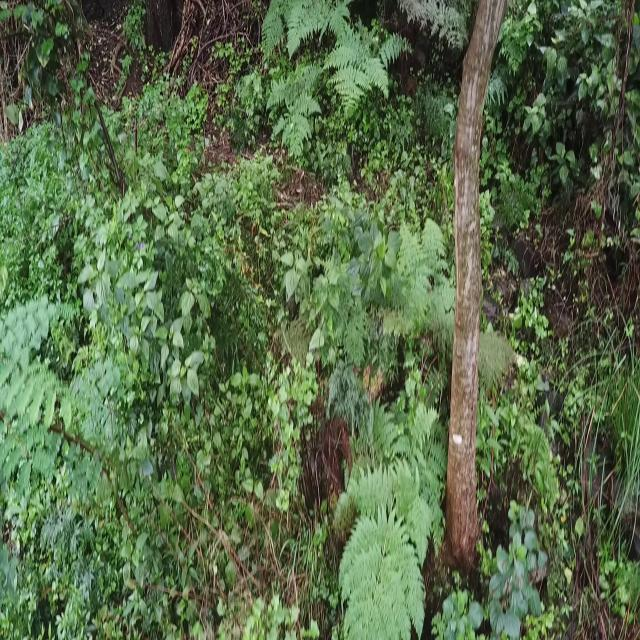Mysore-Thorn-Weed: (0, 268, 82, 515)
